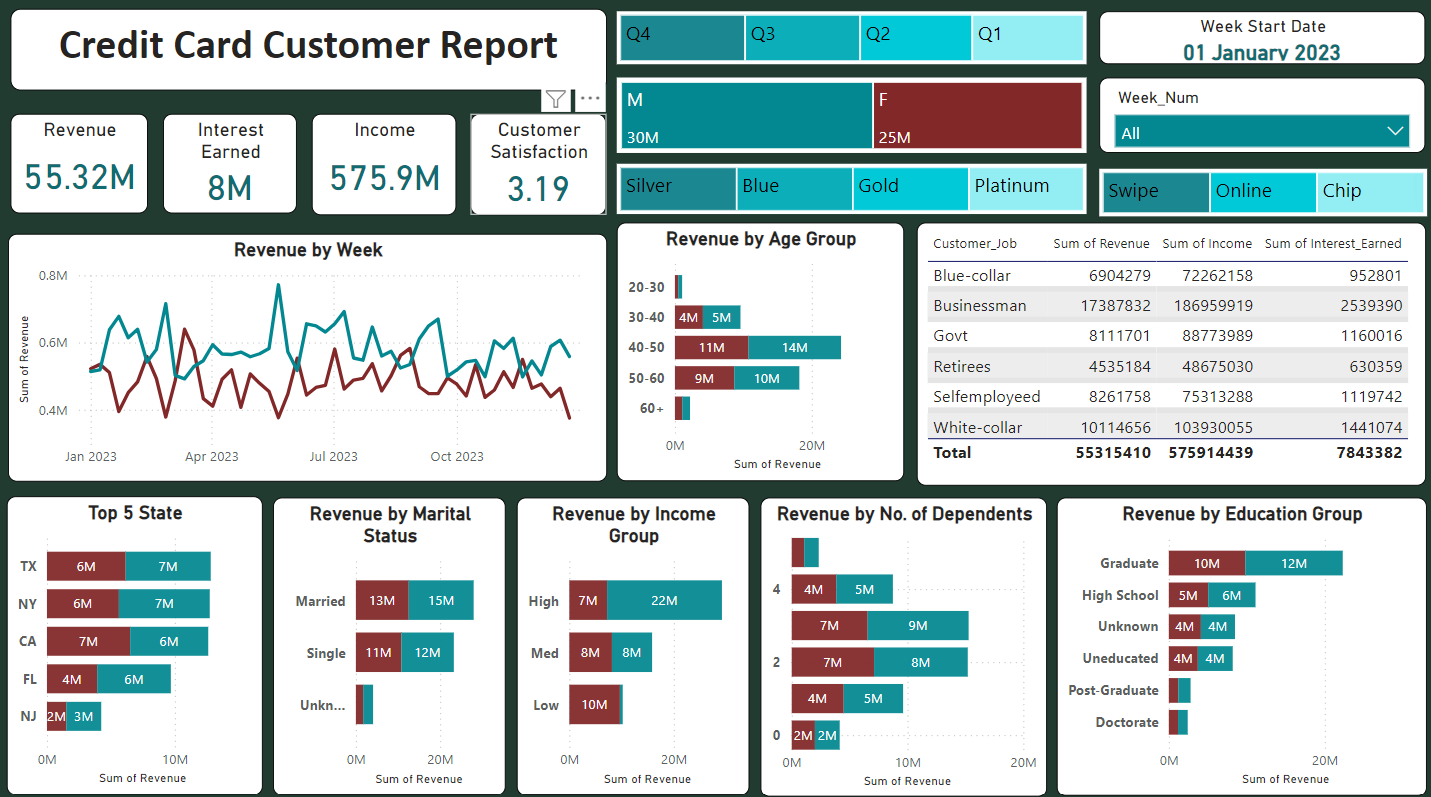

The dashboard page shown, as its layout file describes it:
{"tool":"powerbi","page":{"name":"CC_Customers","canvas":[1280,720],"ordinal":1},"visuals":[{"type":"textbox","box":[11,12.3,531,72.7],"z":0},{"type":"barChart","title":"Revenue by Income Group","fields":{"Category":["customer.IncomeGroup"],"Y":["Sum(credit_card.Revenue)"],"Series":["customer.Gender"]},"box":[462.1,447.6,207.5,265.4],"z":1000},{"type":"tableEx","fields":{"Values":["customer.Customer_Job","Sum(credit_card.Revenue)","Sum(customer.Income)","Sum(credit_card.Interest_Earned)"]},"box":[818,202.7,453.6,234],"z":2000},{"type":"card","title":"Revenue","fields":{"Values":["Sum(credit_card.Revenue)"]},"box":[11,105.7,122.1,89.2],"z":3000},{"type":"card","title":"Income","fields":{"Values":["Sum(customer.Income)"]},"box":[279.9,105.7,129,90.6],"z":4000},{"type":"card","title":"Customer Satisfaction","fields":{"Values":["Avg(customer.Cust_Satisfaction_Score)"]},"box":[421.3,105.4,121,90],"z":5000},{"type":"card","title":"Interest Earned","fields":{"Values":["Sum(credit_card.Interest_Earned)"]},"box":[146.8,105.7,119.4,89.2],"z":6000},{"type":"slicer","fields":{"Values":["credit_card.Week_Num"]},"box":[980.8,73.6,290.8,67.6],"z":7000},{"type":"card","title":"Week Start Date","fields":{"Values":["Min(credit_card.Week_Start_Date)"]},"box":[980.8,14.5,290.8,47.1],"z":8000},{"type":"treemap","fields":{"Group":["credit_card.Qtr"],"Values":["Avg(credit_card.Client_Num)"]},"box":[551.3,14.5,418.6,47.1],"z":9000},{"type":"treemap","fields":{"Values":["Avg(credit_card.Client_Num)"],"Group":["credit_card.Card_Category"]},"box":[551.3,150.8,418.6,44.6],"z":10000},{"type":"lineChart","title":" Revenue by Week","fields":{"Y":["Sum(credit_card.Revenue)"],"Series":["customer.Gender"],"Category":["credit_card.Week_Start_Date.Variation.Date Hierarchy.Year","credit_card.Week_Start_Date.Variation.Date Hierarchy.Month","credit_card.Week_Start_Date.Variation.Date Hierarchy.Day"]},"box":[8.4,212.3,533.2,220.8],"z":11000},{"type":"treemap","fields":{"Group":["customer.Gender"],"Values":["Sum(credit_card.Revenue)"]},"box":[551.3,73.6,418.6,67.6],"z":12000},{"type":"barChart","title":"Revenue by Age Group","fields":{"Category":["customer.AgeGroup"],"Y":["Sum(credit_card.Revenue)"],"Series":["customer.Gender"]},"box":[551.3,202.7,255.8,230.4],"z":13000},{"type":"barChart","title":"Revenue by No. of Dependents","fields":{"Category":["customer.Dependent_Count"],"Y":["Sum(credit_card.Revenue)"],"Series":["customer.Gender"]},"box":[679.2,447.3,255.2,267.6],"z":14000},{"type":"barChart","title":"Revenue by Education Group","fields":{"Category":["customer.Education_Level"],"Y":["Sum(credit_card.Revenue)"],"Series":["customer.Gender"]},"box":[942.7,447.3,329.3,266.2],"z":15000},{"type":"barChart","title":"Top 5 State","fields":{"Category":["customer.state_cd"],"Y":["Sum(credit_card.Revenue)"],"Series":["customer.Gender"]},"box":[8.2,446,227.8,266.2],"z":16000},{"type":"barChart","title":"Revenue by Marital Status","fields":{"Category":["customer.Marital_Status"],"Y":["Sum(credit_card.Revenue)"],"Series":["customer.Gender"]},"box":[244.9,447.6,207.5,265.4],"z":17000},{"type":"treemap","fields":{"Values":["Avg(credit_card.Client_Num)"],"Group":["credit_card.Use Chip"]},"box":[980.8,154.4,292,42.2],"z":18000}]}

Visuals, with their boxes in screenshot pixels (x1, y1, x2, y2), scaled from the page's 1280x720 canvas onto the 1431x797 screenshot:
textbox: x1=12, y1=14, x2=606, y2=94
"Revenue by Income Group" barChart: x1=517, y1=495, x2=749, y2=789
tableEx - customer.Customer_Job x Sum(credit_card.Revenue): x1=914, y1=224, x2=1422, y2=483
"Revenue" card: x1=12, y1=117, x2=149, y2=216
"Income" card: x1=313, y1=117, x2=457, y2=217
"Customer Satisfaction" card: x1=471, y1=117, x2=606, y2=216
"Interest Earned" card: x1=164, y1=117, x2=298, y2=216
slicer - credit_card.Week_Num: x1=1097, y1=81, x2=1422, y2=156
"Week Start Date" card: x1=1097, y1=16, x2=1422, y2=68
treemap - credit_card.Qtr x Avg(credit_card.Client_Num): x1=616, y1=16, x2=1084, y2=68
treemap - Avg(credit_card.Client_Num) x credit_card.Card_Category: x1=616, y1=167, x2=1084, y2=216
" Revenue by Week" lineChart: x1=9, y1=235, x2=605, y2=479
treemap - customer.Gender x Sum(credit_card.Revenue): x1=616, y1=81, x2=1084, y2=156
"Revenue by Age Group" barChart: x1=616, y1=224, x2=902, y2=479
"Revenue by No. of Dependents" barChart: x1=759, y1=495, x2=1045, y2=791
"Revenue by Education Group" barChart: x1=1054, y1=495, x2=1422, y2=790
"Top 5 State" barChart: x1=9, y1=494, x2=264, y2=788
"Revenue by Marital Status" barChart: x1=274, y1=495, x2=506, y2=789
treemap - Avg(credit_card.Client_Num) x credit_card.Use Chip: x1=1097, y1=171, x2=1423, y2=218
